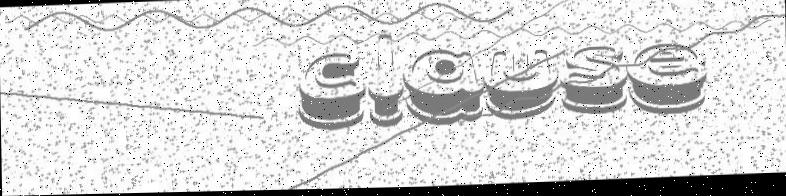a: (403, 47, 484, 127)
c: (297, 51, 367, 133)
e: (627, 44, 707, 119)
l: (365, 32, 404, 130)
s: (560, 47, 628, 118)
u: (483, 48, 559, 123)
